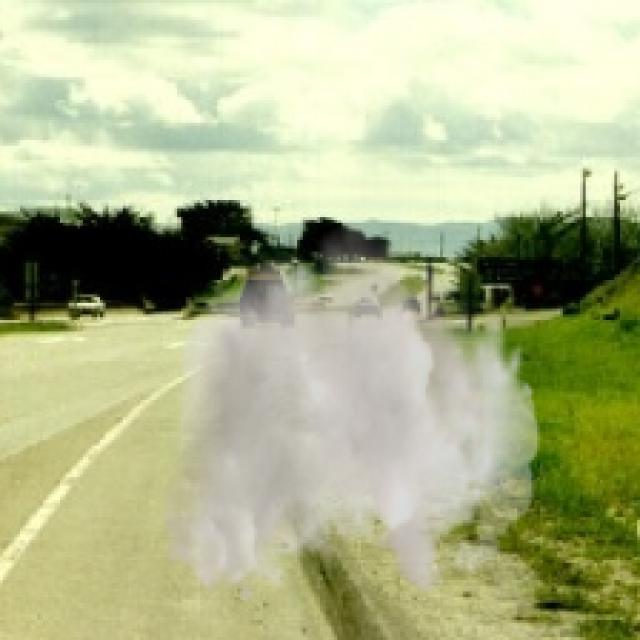Smoke: (160, 205, 540, 606)
